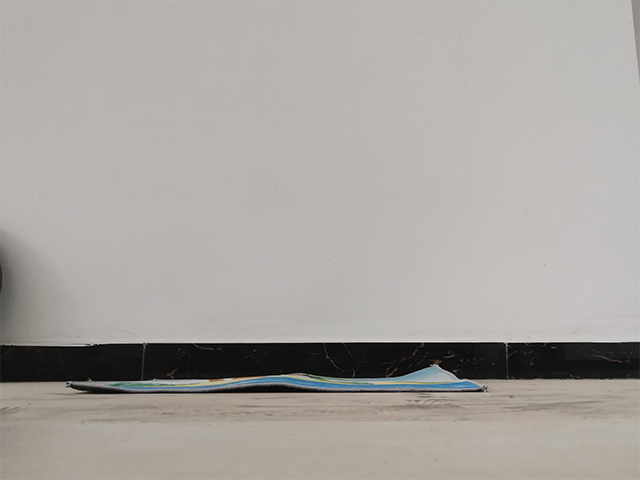carpet: (64, 363, 491, 394)
